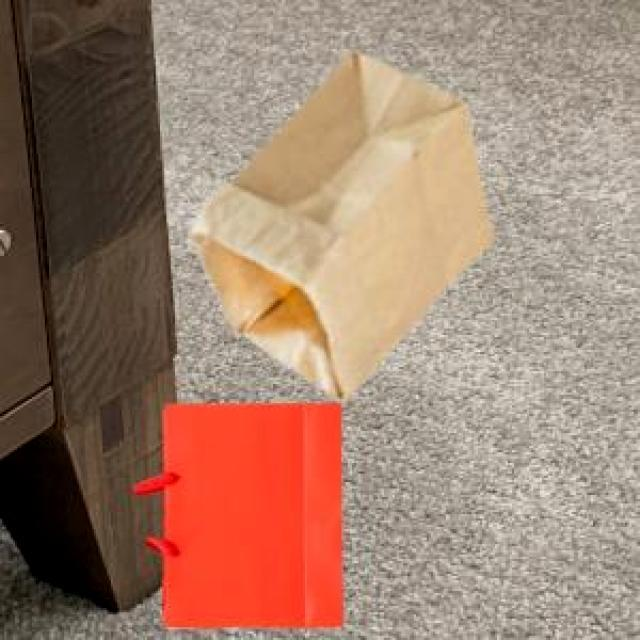Paper_Bag: (186, 50, 489, 398), (131, 400, 340, 626)
